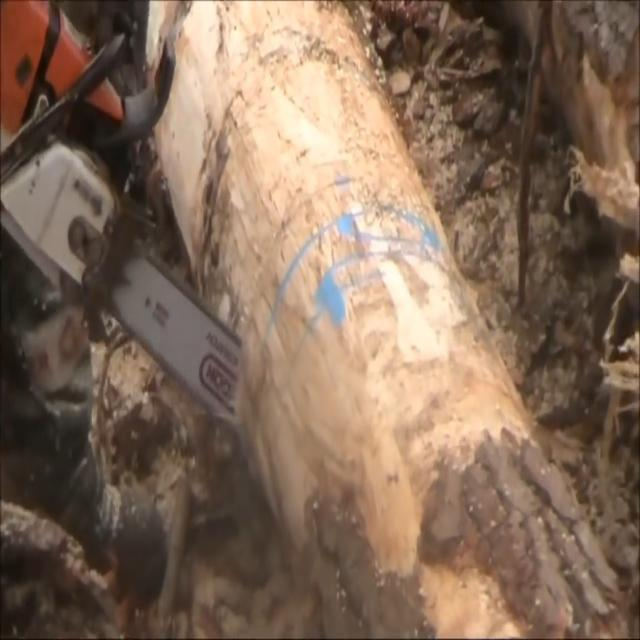Chainsaw: (2, 3, 266, 427)
